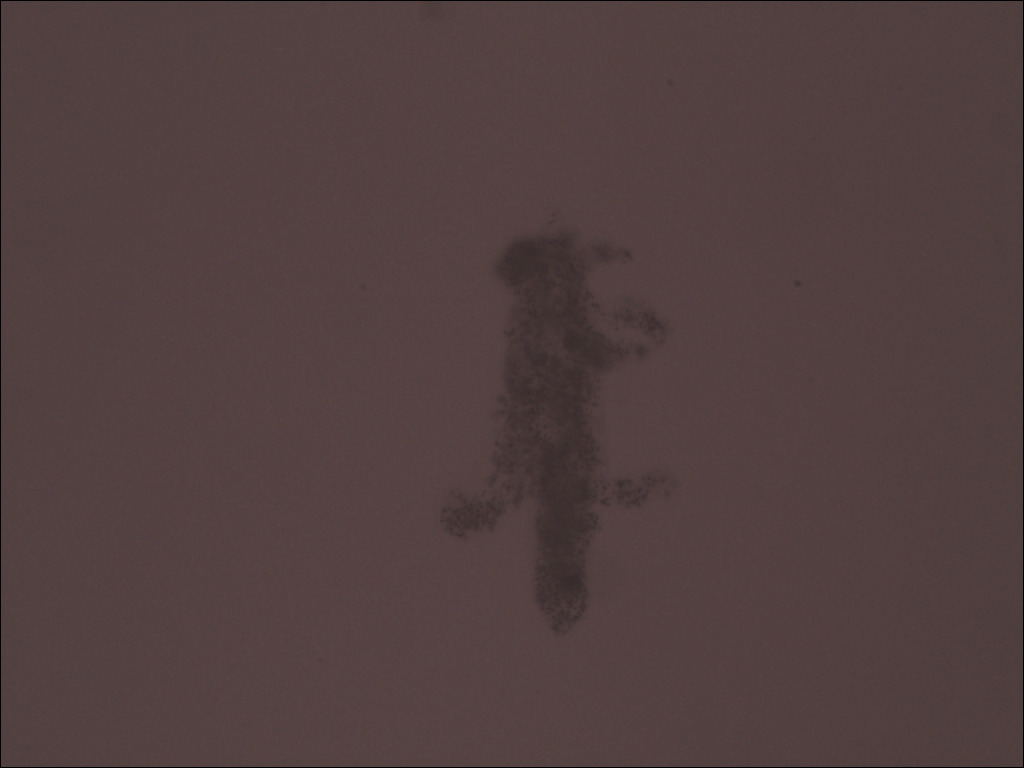amoeba: (423, 208, 708, 663)
